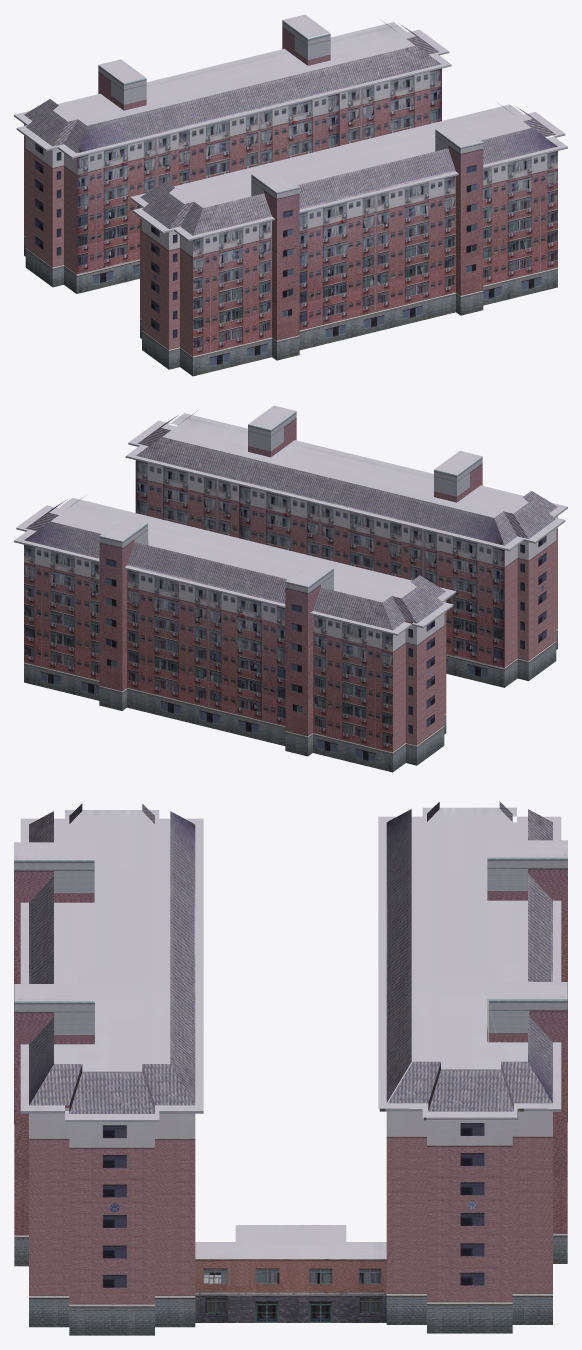
3 renders of one model, top to bottom at view 1: azimuth 30°, elevation 25°; view 2: azimuth 150°, elevation 25°; view 3: azimuth 270°, elevation 25°, orthographic. The views are drawn at different scales.
Visible parts, largest first — view 1: Mesh01#36, Mesh05#27, Mesh04#28, Mesh02#38, Mesh03#32; view 2: Mesh01#36, Mesh03#32, Mesh02#38, Mesh04#28, Mesh05#27; view 3: Mesh01#36, Mesh04#28, Mesh03#32, Mesh05#27, Mesh02#38.
Part boxes in pixels (x1,y1,x2,y2): Mesh01#36: (14, 20, 567, 376); Mesh05#27: (251, 168, 299, 360); Mesh04#28: (435, 123, 483, 315); Mesh02#38: (98, 59, 146, 110); Mesh03#32: (282, 14, 330, 65); Mesh01#36: (14, 411, 567, 772); Mesh03#32: (99, 517, 148, 710); Mesh02#38: (285, 562, 333, 756); Mesh04#28: (248, 405, 296, 457); Mesh05#27: (434, 451, 482, 502); Mesh01#36: (20, 801, 561, 1335); Mesh04#28: (14, 984, 94, 1266); Mesh03#32: (487, 981, 567, 1263); Mesh05#27: (14, 842, 94, 1124); Mesh02#38: (487, 840, 567, 1121).
Size of the model in its own units: 0.0733 by 0.029 by 0.055.
Materials: 2 (2 with a texture image).
